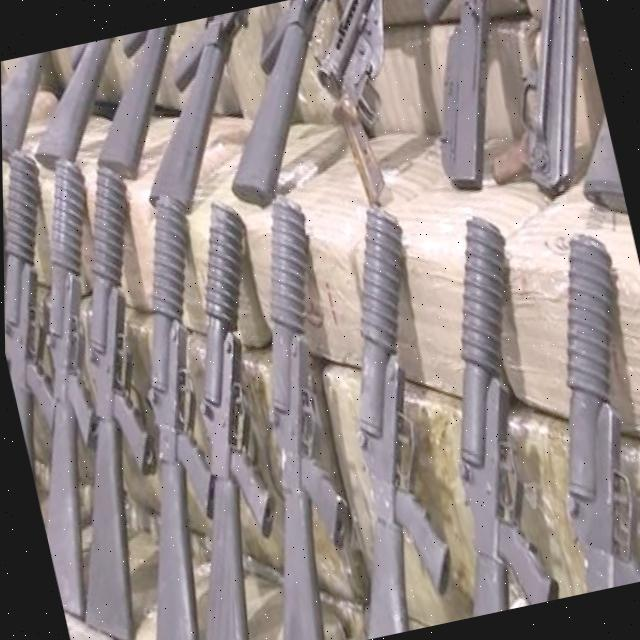firearm: (448, 0, 619, 203), (294, 0, 454, 208)
rocket: (89, 199, 337, 640), (2, 166, 223, 640), (50, 193, 280, 640), (170, 191, 398, 640), (257, 199, 485, 640), (376, 211, 584, 618), (2, 155, 128, 573), (499, 223, 640, 594)
